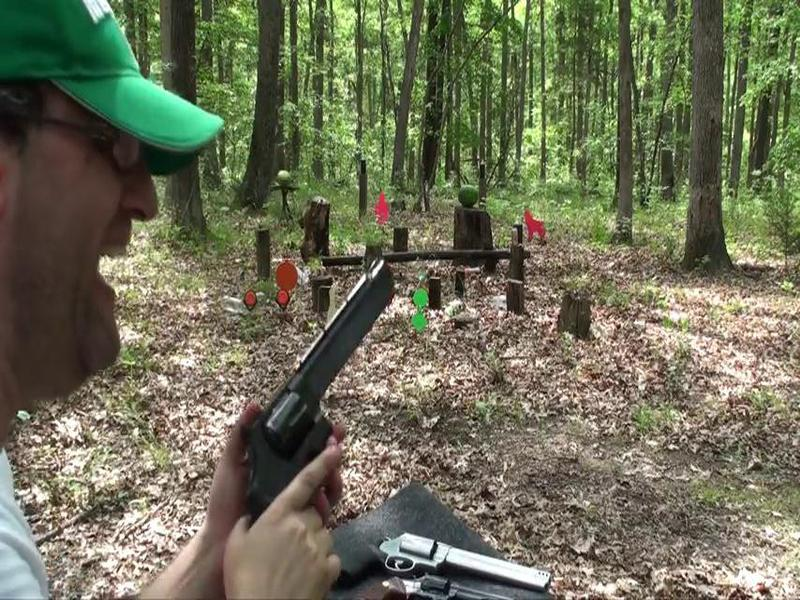Revolver: (227, 244, 413, 568)
